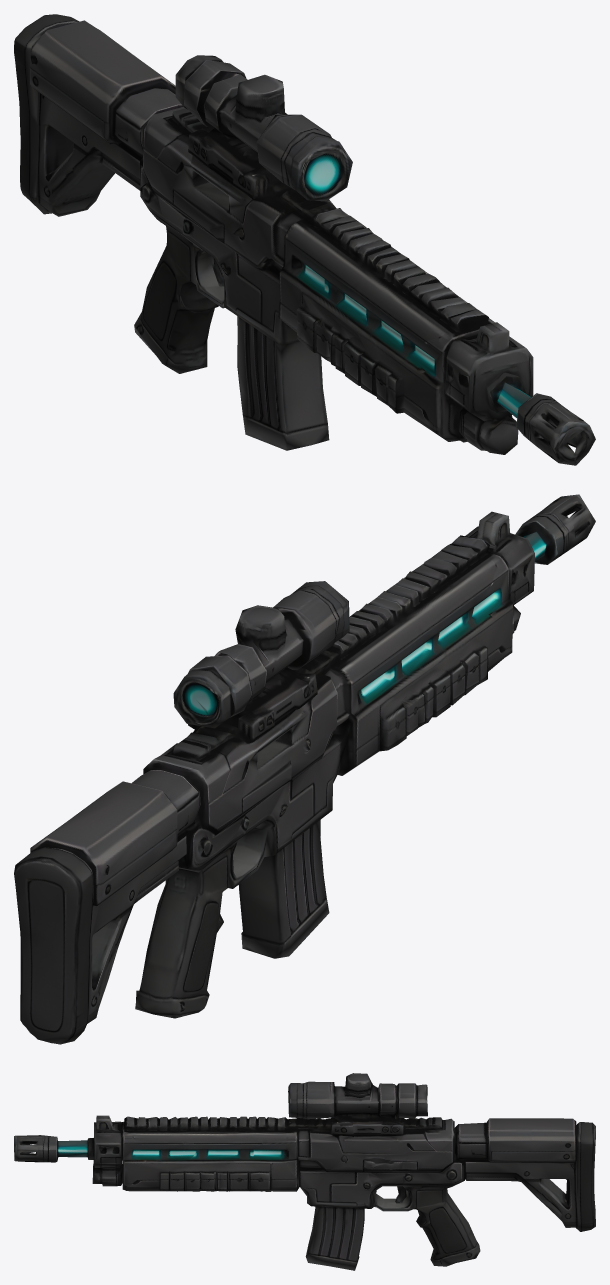
The model's file is rifle.glb.
The picture shows the model from 3 angles, top to bottom: view 1: azimuth 30°, elevation 25°; view 2: azimuth 150°, elevation 25°; view 3: azimuth 270°, elevation 25°; orthographic projection. The views are drawn at different scales.
Parts seen in each view (by area): view 1: tripo_node_b316f88e-190b-4304-a41b-0172cf8a2a35; view 2: tripo_node_b316f88e-190b-4304-a41b-0172cf8a2a35; view 3: tripo_node_b316f88e-190b-4304-a41b-0172cf8a2a35.
Part boxes in pixels (box(x1,y1,x2,y2)): tripo_node_b316f88e-190b-4304-a41b-0172cf8a2a35: box(14, 14, 595, 465); tripo_node_b316f88e-190b-4304-a41b-0172cf8a2a35: box(14, 494, 595, 1044); tripo_node_b316f88e-190b-4304-a41b-0172cf8a2a35: box(14, 1073, 595, 1270).
Size of the model in its own units: 0.1326 by 0.4624 by 1.3.
1 material, 1 textured.
